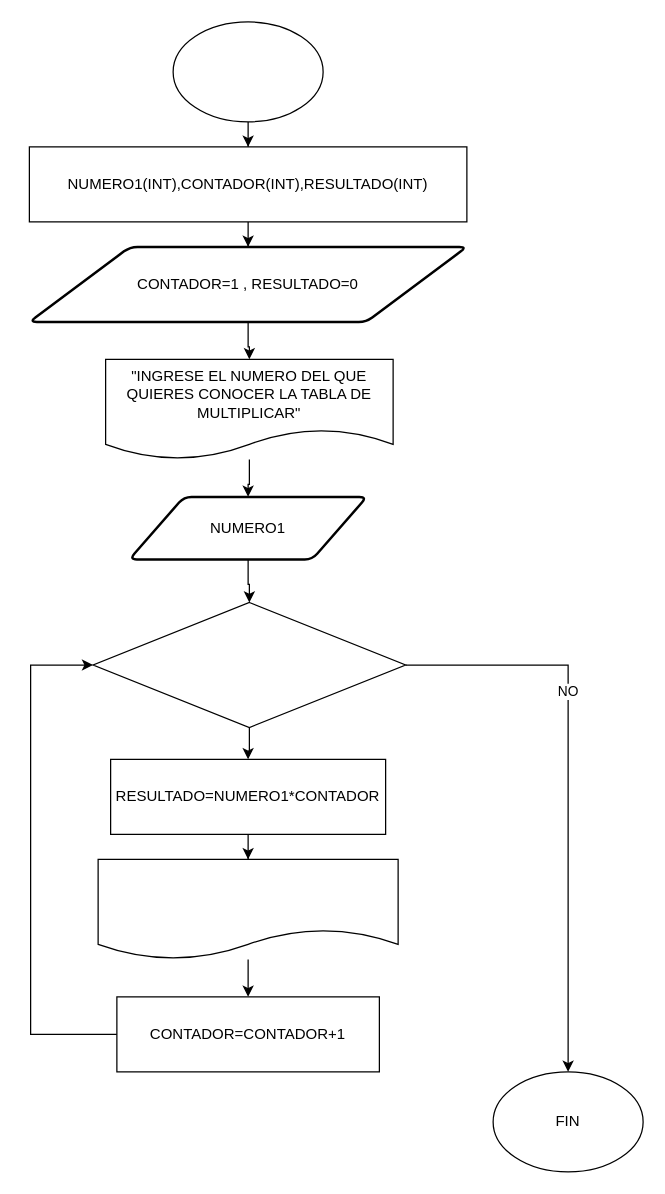
This 665x1194 diagram has some shape labels left out. The centre of each missing label's shape, as x and y in pixels:
CONTADOR<=10: point (249, 664)
INICIO: point (247, 71)
NUMERO,*,CONTADOR= RESULTADO: point (247, 908)
